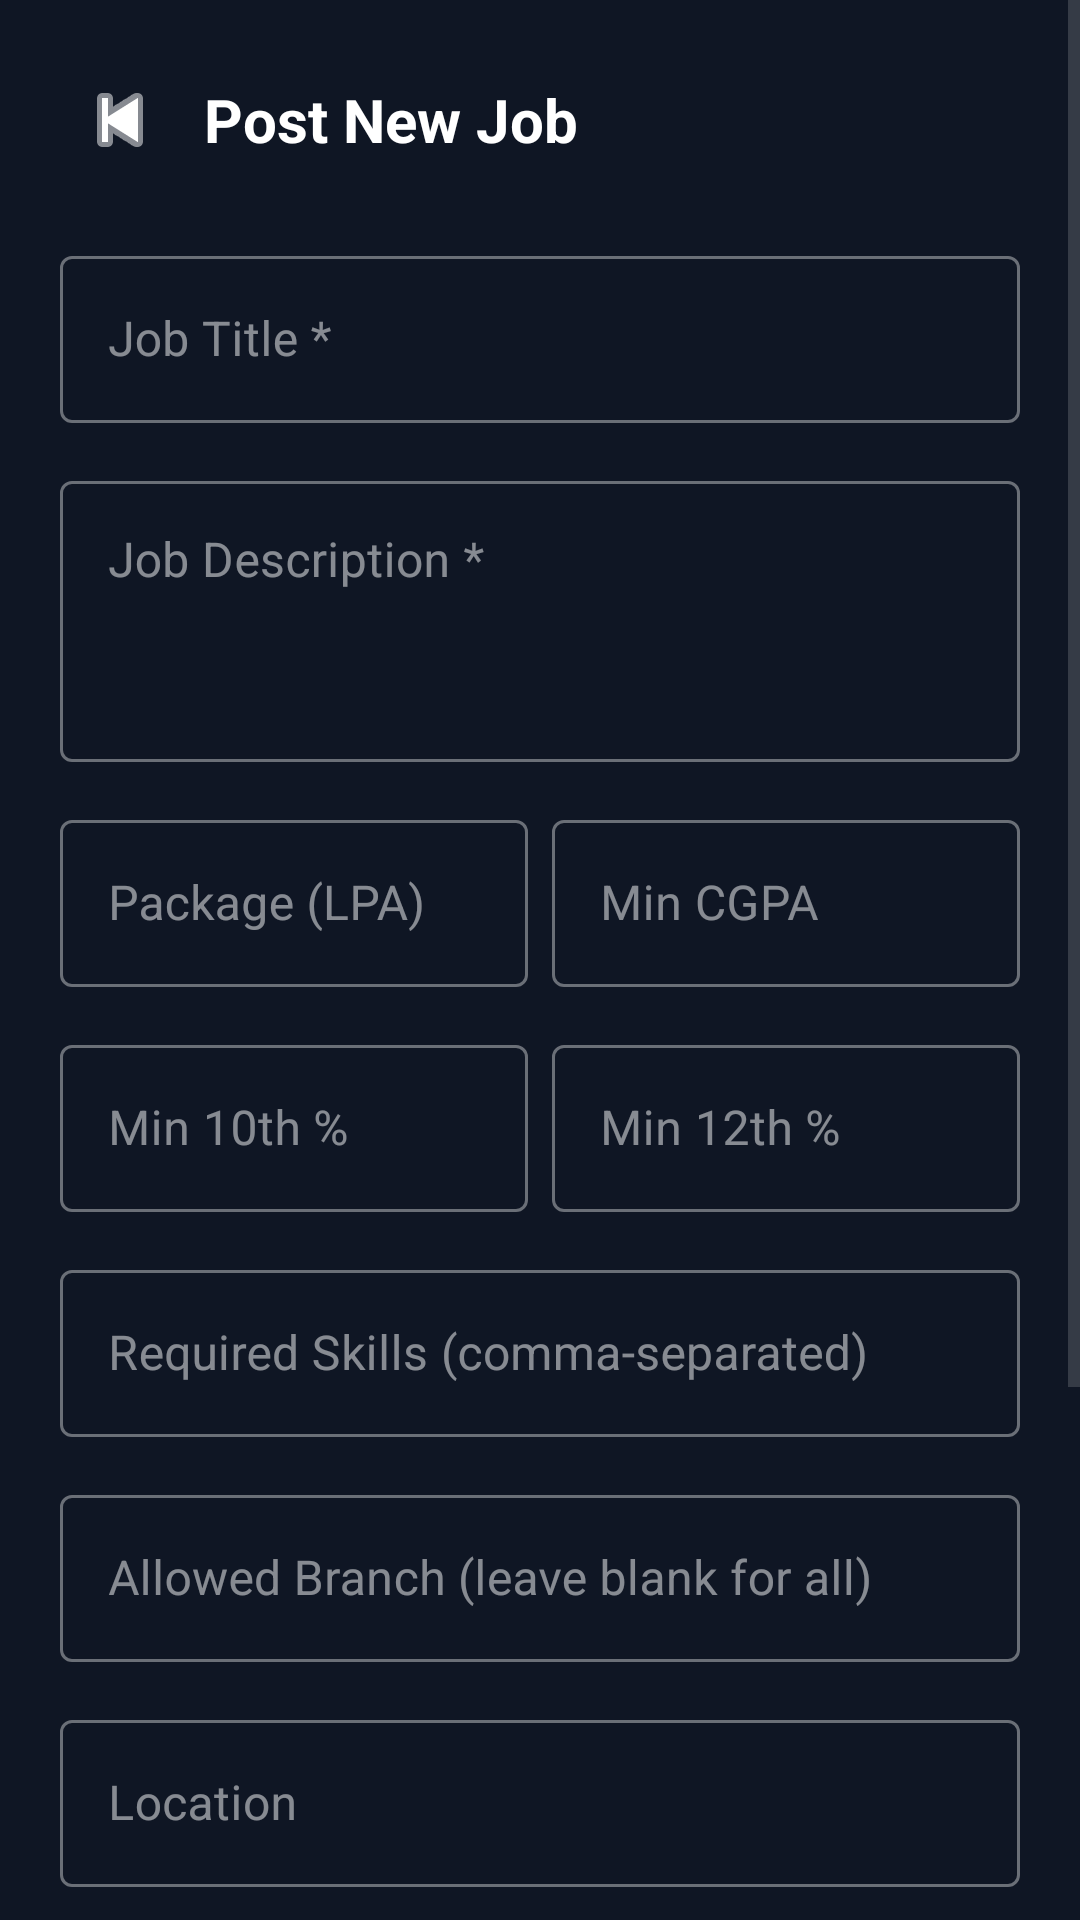

Where to tap for icons on this 1080 x 1920 app screen, as [x,y]:
previous: [120,120]
